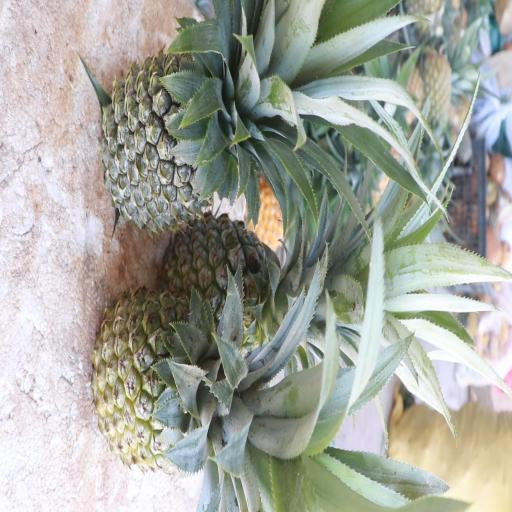------------------------------: (88, 281, 323, 483), (153, 210, 341, 368)
